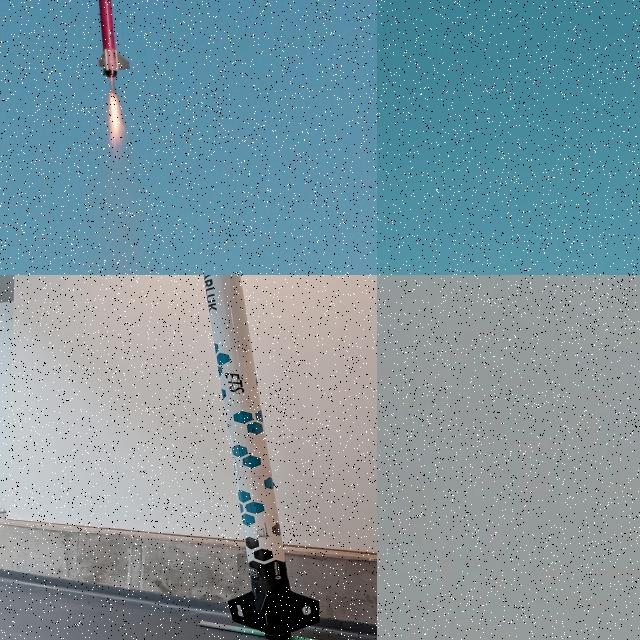Rocket: (203, 275, 320, 640), (96, 0, 131, 78)
